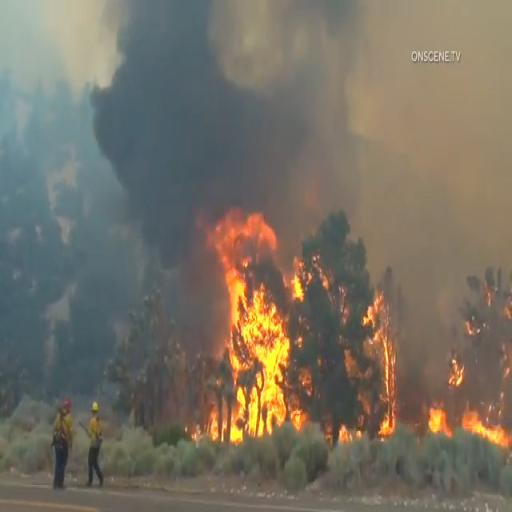fire: (210, 200, 304, 430), (428, 387, 512, 459)
smoke: (88, 0, 356, 179)
